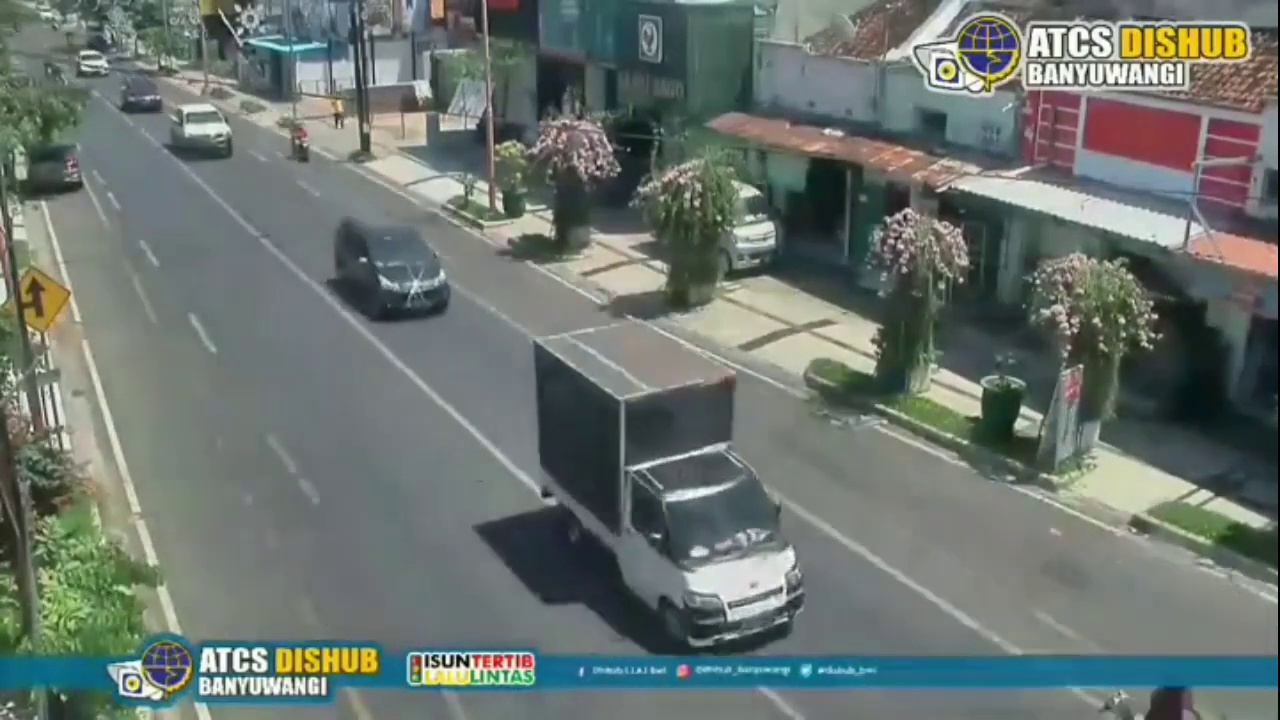car: (529, 314, 806, 652), (338, 215, 448, 319), (719, 171, 788, 286), (173, 102, 230, 158), (120, 69, 162, 116), (78, 51, 107, 81)
motorbike: (289, 120, 312, 164)
